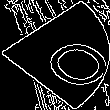O_NW: (8, 21, 102, 89)
